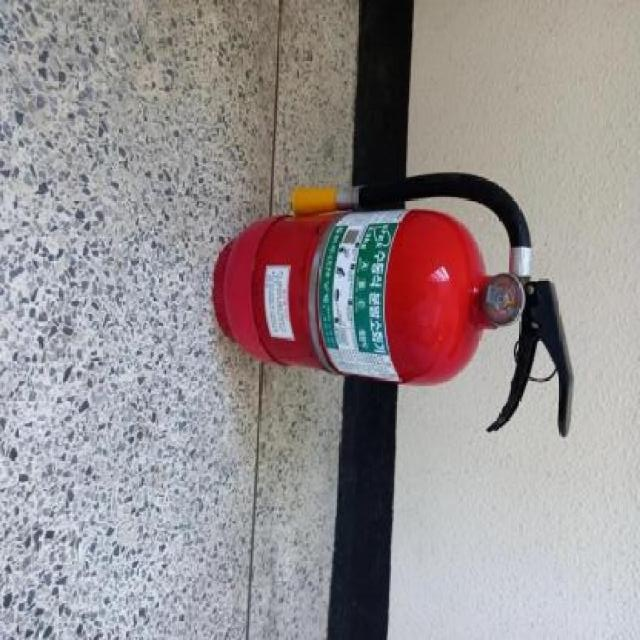fire extinguisher: (211, 172, 574, 439)
